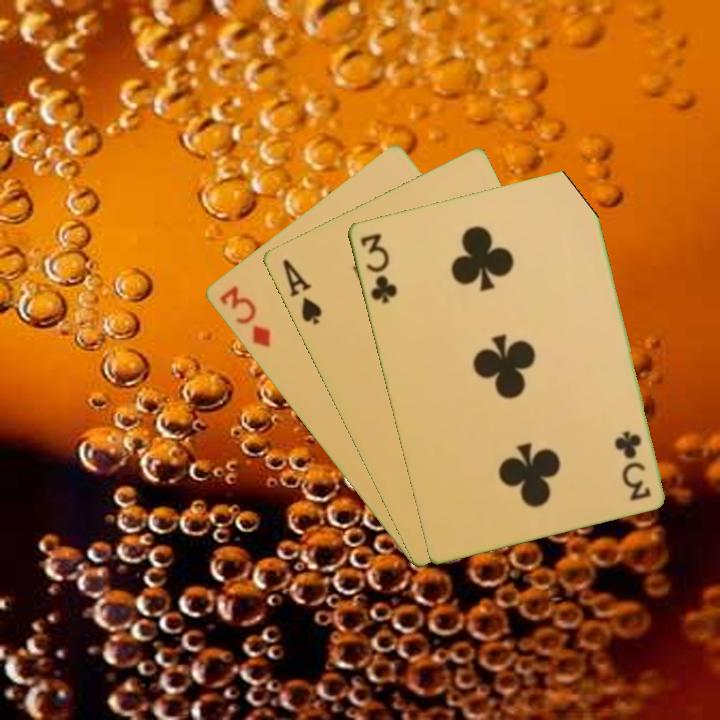3c: (356, 229, 400, 306), (614, 427, 653, 504)
3d: (215, 282, 273, 351)
As: (278, 255, 325, 328)
